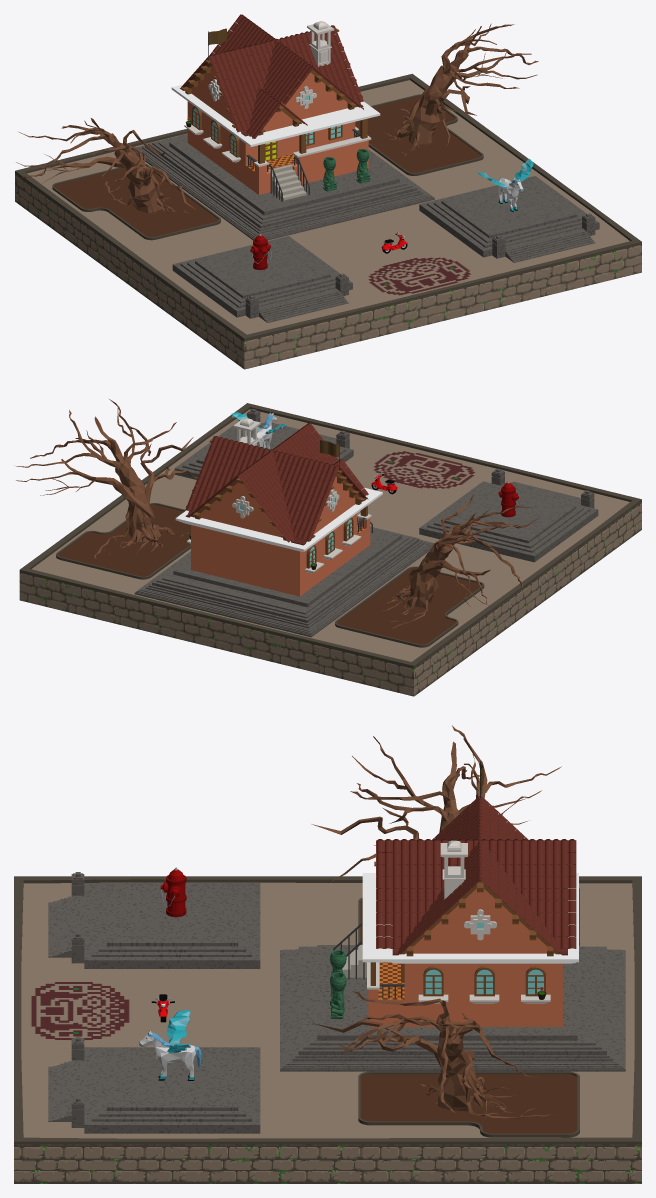
The picture shows the model from 3 angles, top to bottom: view 1: azimuth 30°, elevation 25°; view 2: azimuth 150°, elevation 25°; view 3: azimuth 270°, elevation 25°; orthographic projection. The views are drawn at different scales.
Parts seen in each view (by area): view 1: Cube.011, Cube.1141, ANIMAL_PEGASO, OBJRANDOM_FIRE_HYDRANT; view 2: Cube.011, Cube.1141, ANIMAL_PEGASO, OBJRANDOM_FIRE_HYDRANT; view 3: Cube.011, Cube.1141, ANIMAL_PEGASO, OBJRANDOM_FIRE_HYDRANT.
Part boxes in pixels (x1,y1,x2,y2): Cube.011: [15, 23, 641, 369]; Cube.1141: [171, 14, 380, 201]; ANIMAL_PEGASO: [478, 159, 533, 211]; OBJRANDOM_FIRE_HYDRANT: [250, 233, 271, 269]; Cube.011: [14, 399, 641, 696]; Cube.1141: [175, 418, 382, 596]; ANIMAL_PEGASO: [231, 412, 286, 449]; OBJRANDOM_FIRE_HYDRANT: [498, 481, 519, 517]; Cube.011: [14, 725, 641, 1183]; Cube.1141: [333, 761, 578, 1026]; ANIMAL_PEGASO: [139, 1010, 201, 1080]; OBJRANDOM_FIRE_HYDRANT: [160, 867, 186, 917].
Size of the model in its own units: 5099 by 1764 by 4000.
Materials: 40 (6 with a texture image).
